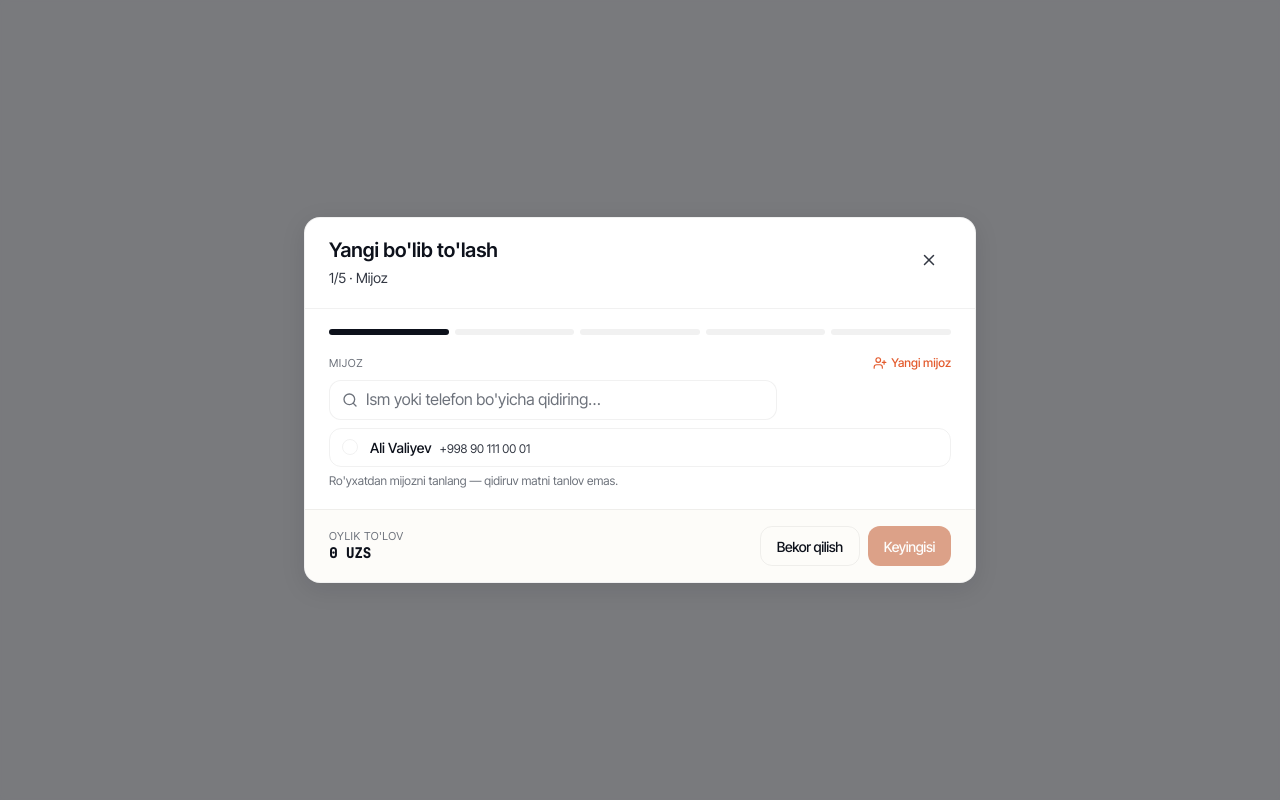
Test: footer Next button — validation is disabled, not busy (line ~875) › becomes enabled and stays non-busy once the step is valid
Click the text "Ali Valiyev": click(401, 447) [370,438,432,456]
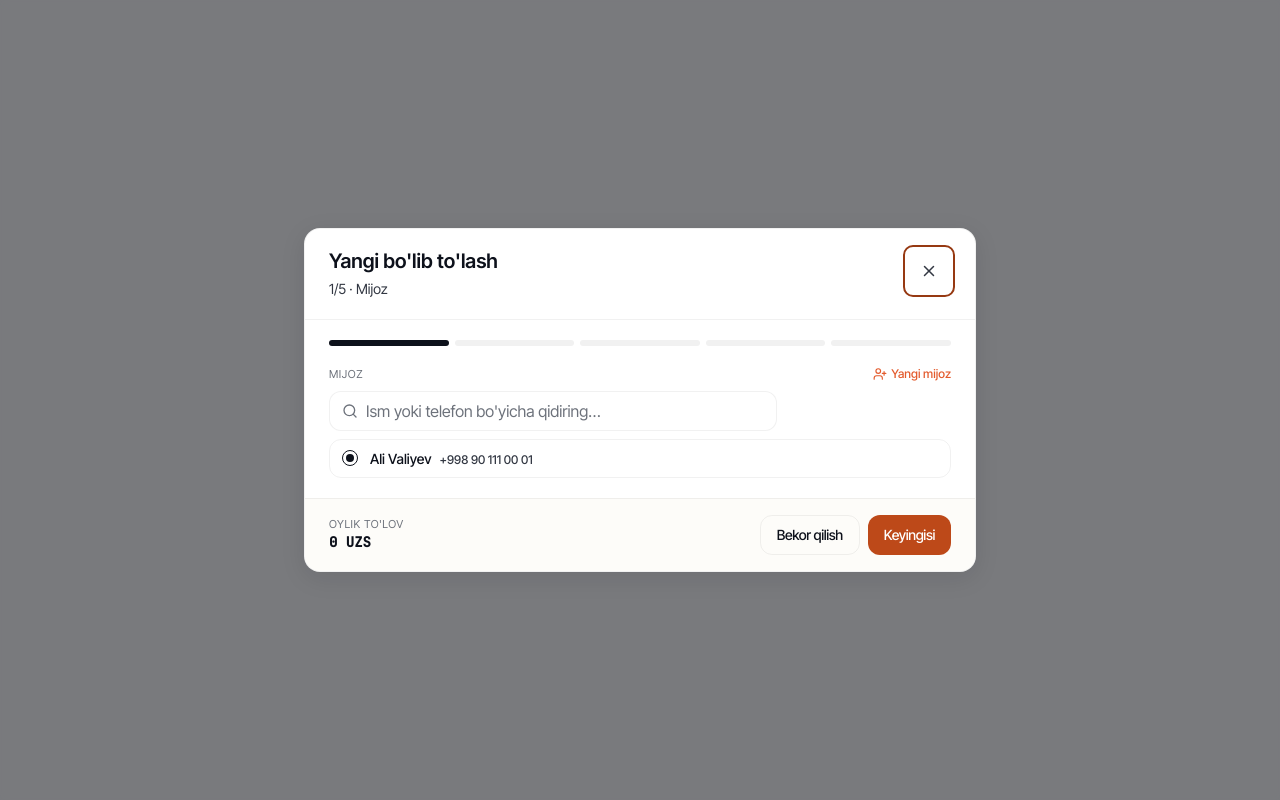
Result: the button "Keyingisi" is enabled at [868,515,951,555]
